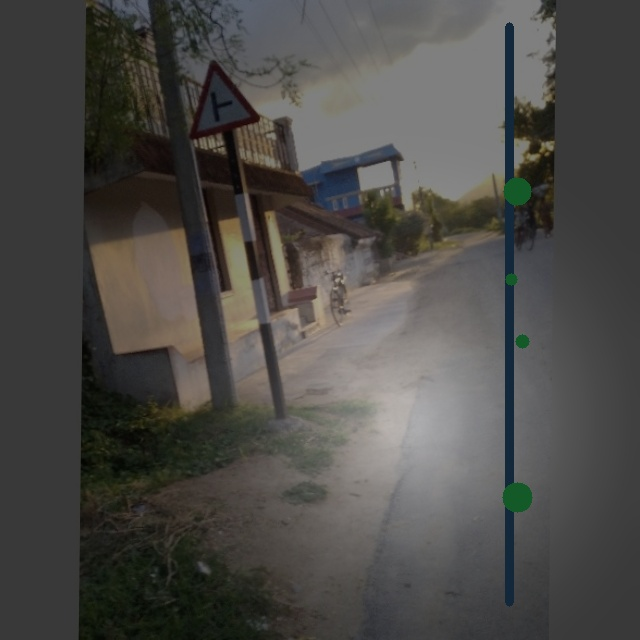Side_Road_Right: (184, 60, 271, 137)
